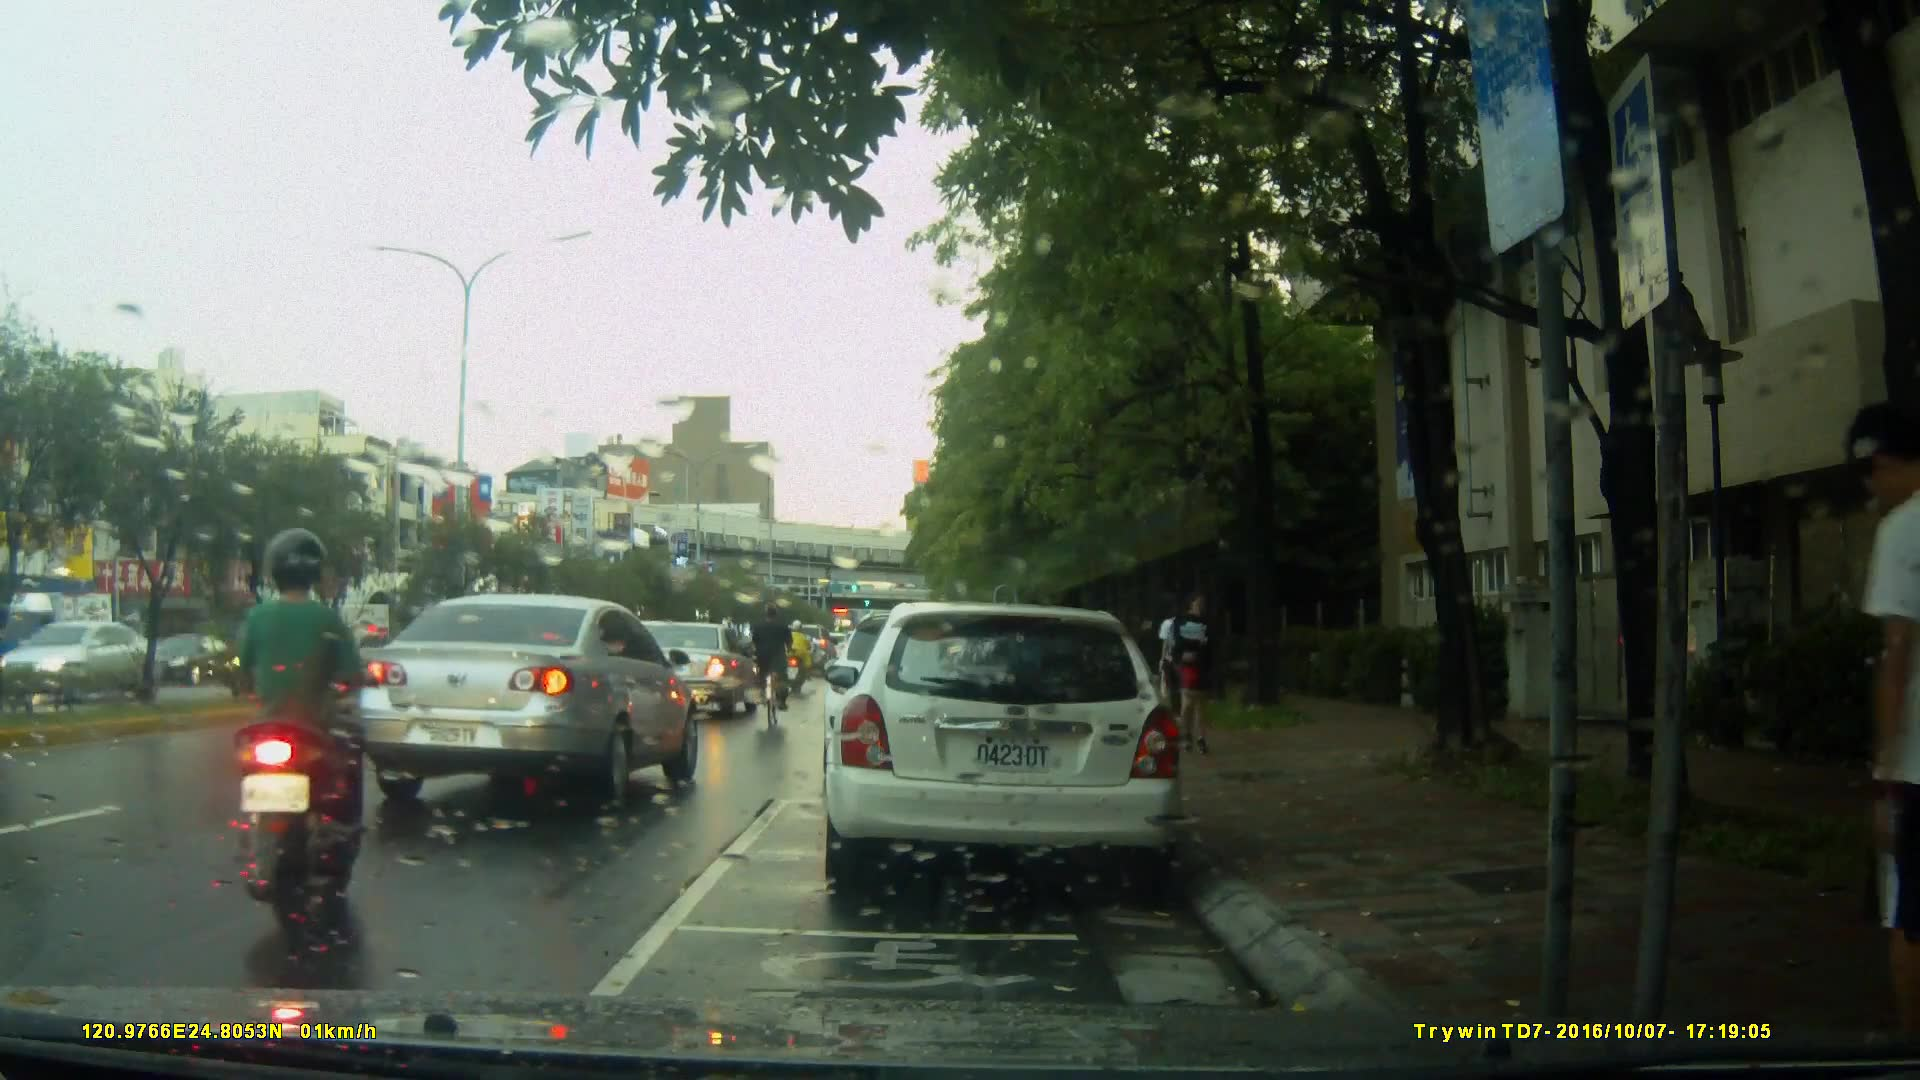pedestrian: (1164, 595, 1219, 746), (1148, 602, 1197, 732)
rider: (224, 526, 354, 952), (750, 605, 795, 744), (786, 615, 816, 695)
vehicle: (820, 602, 1188, 898), (356, 592, 705, 815), (611, 622, 762, 722), (1, 587, 129, 699), (9, 622, 173, 704), (134, 634, 239, 689)
